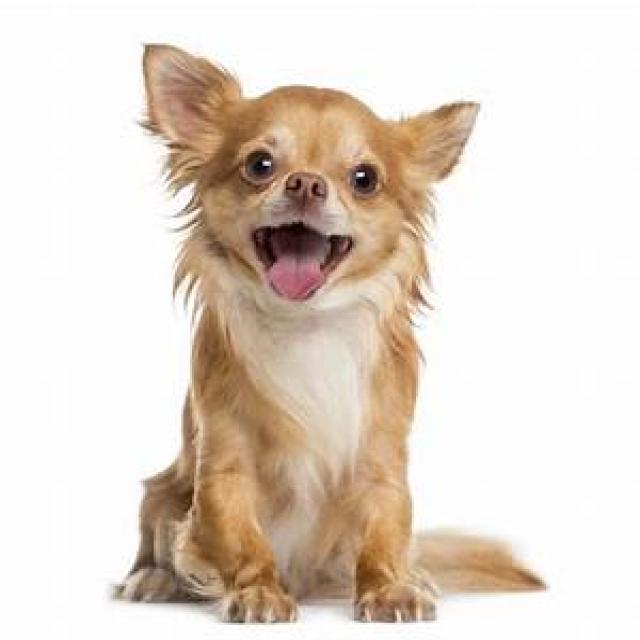KOPEK: (121, 33, 553, 624)
